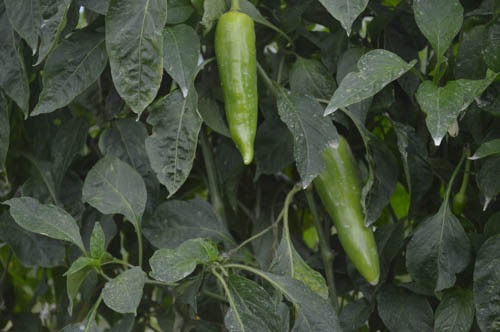ChiliPepper: (317, 138, 379, 283), (215, 12, 263, 165)
